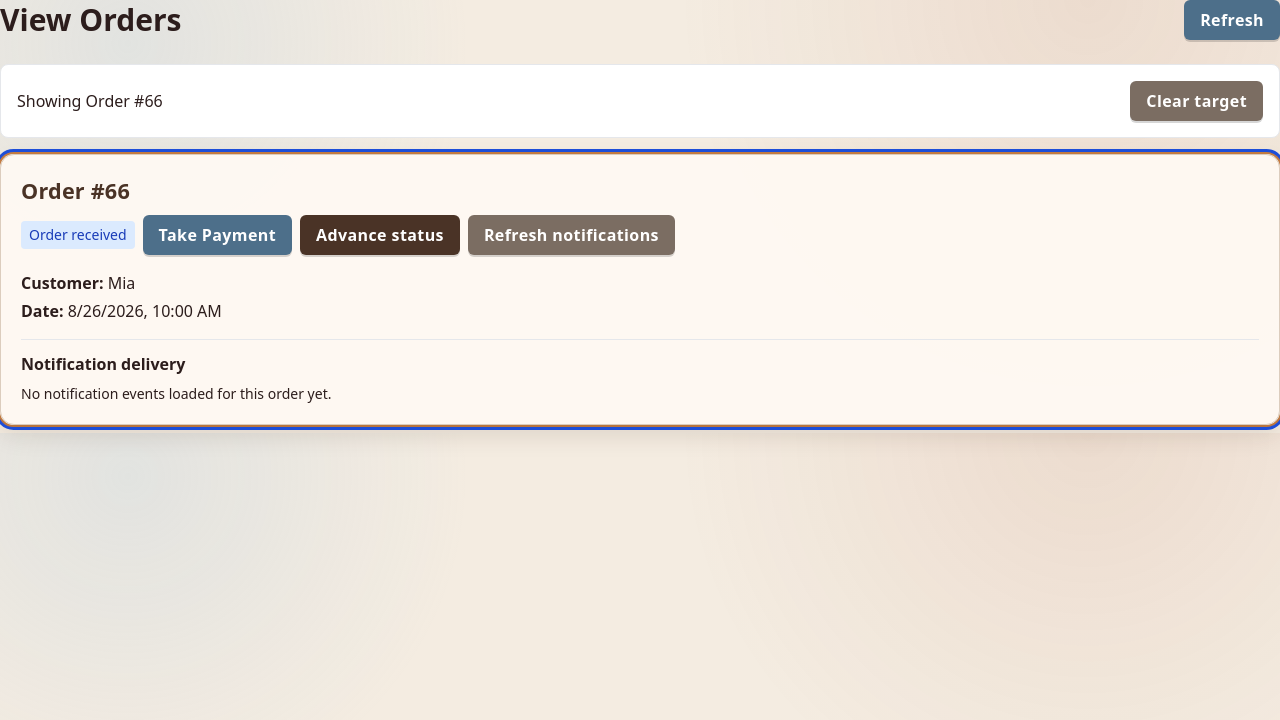
Scenario: staff manual payment recording › updates an exactly targeted order and refreshes that same ID
Step 1. Click the button "Take Payment" → (217, 235), box [143, 215, 292, 255]
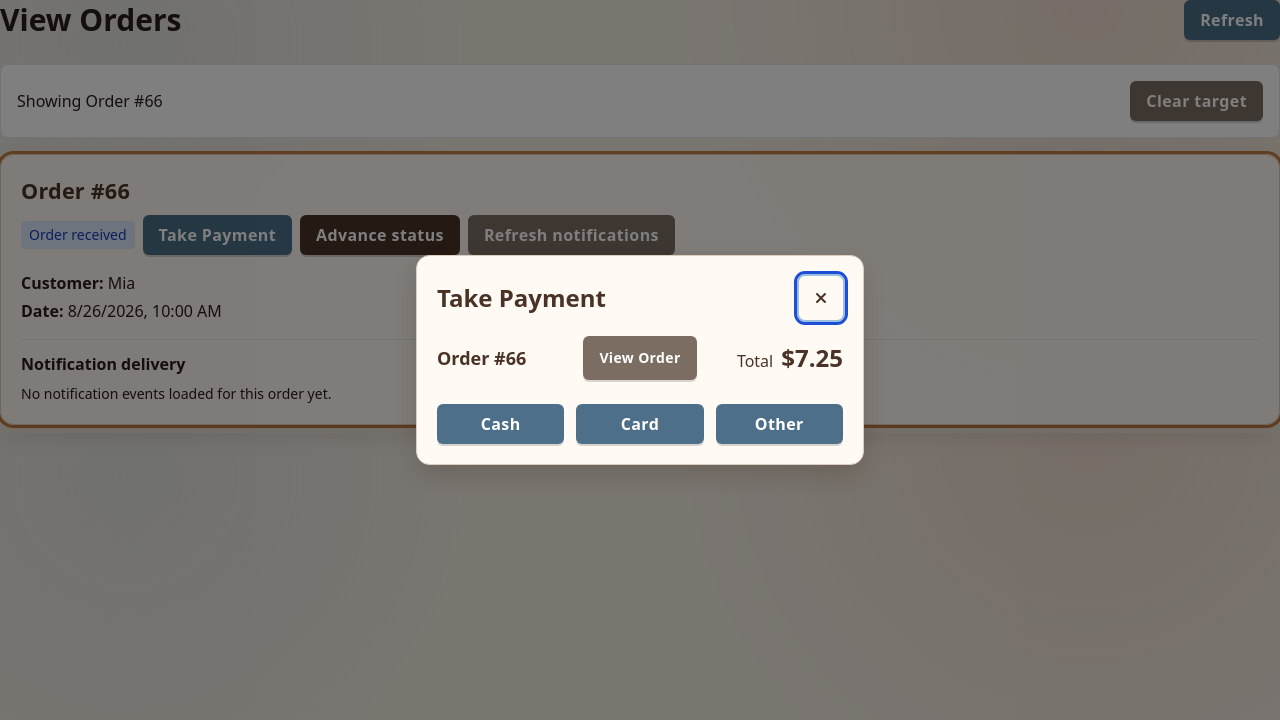
Step 2. Click the button "Other" → (779, 424), box [716, 404, 843, 444]
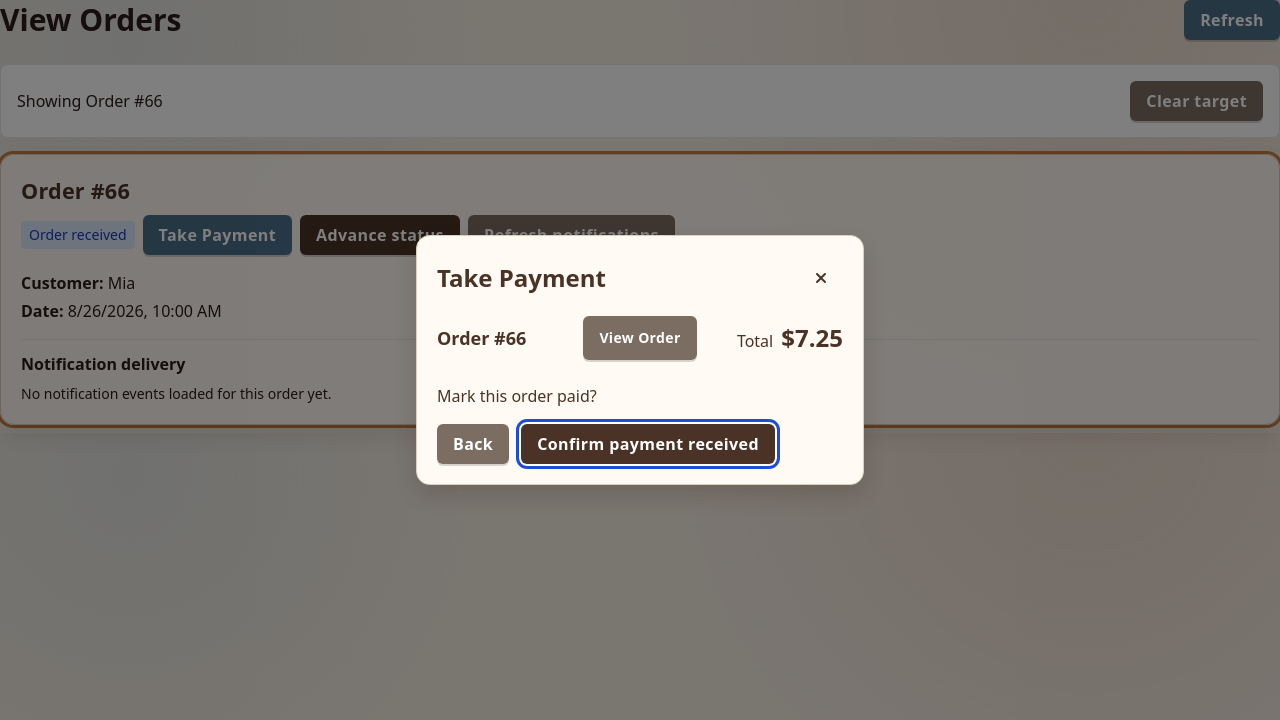
Step 3. Click the button "Confirm payment received" → (648, 444), box [521, 424, 775, 464]
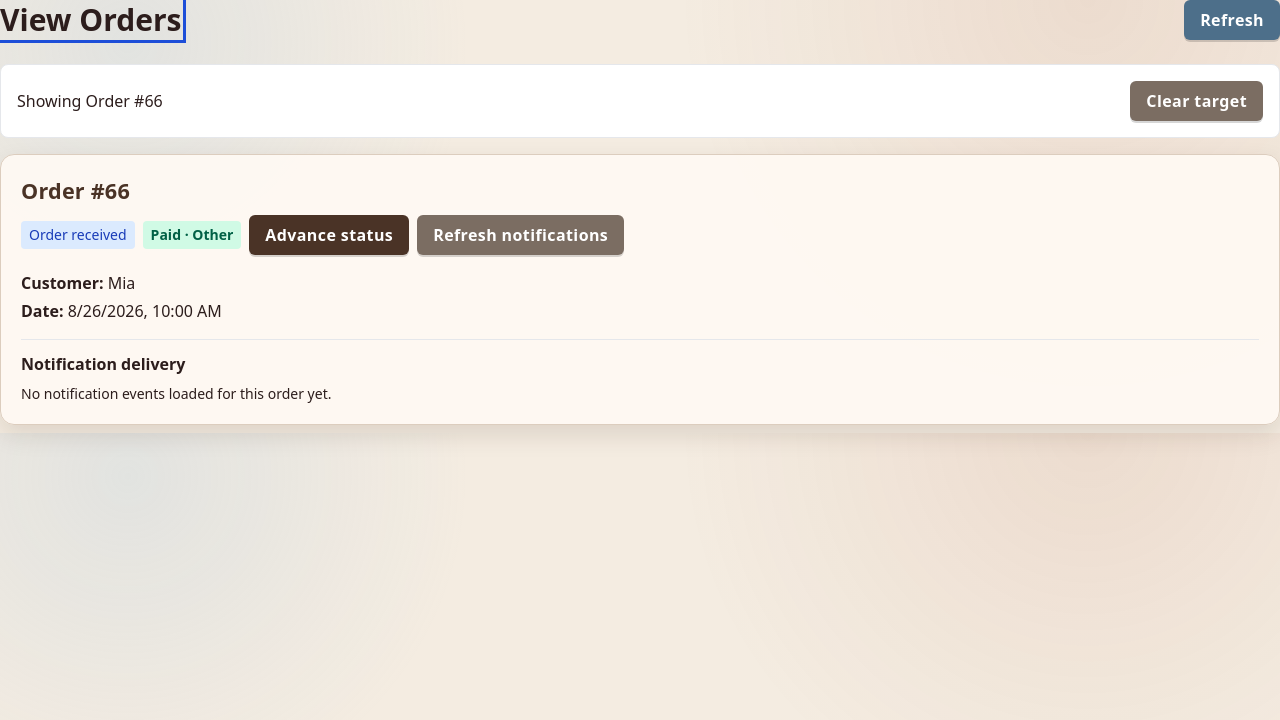
expect the text "Paid · Other" is shown: met, box [143, 221, 241, 249]
